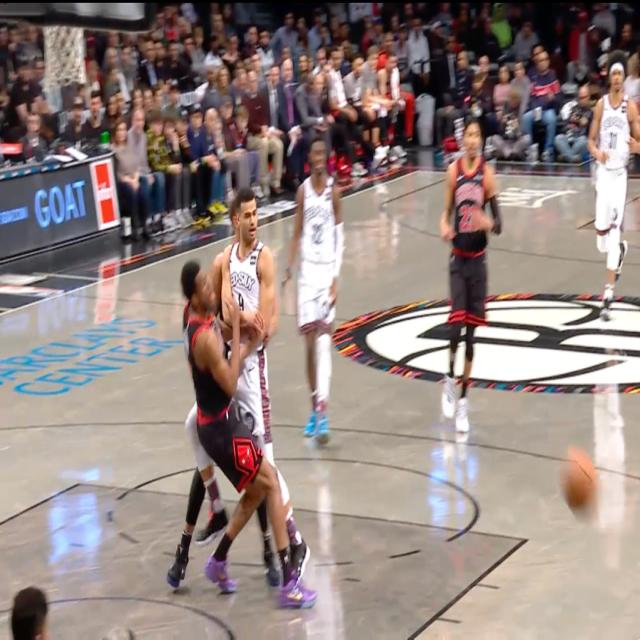Foul: (178, 201, 292, 597)
